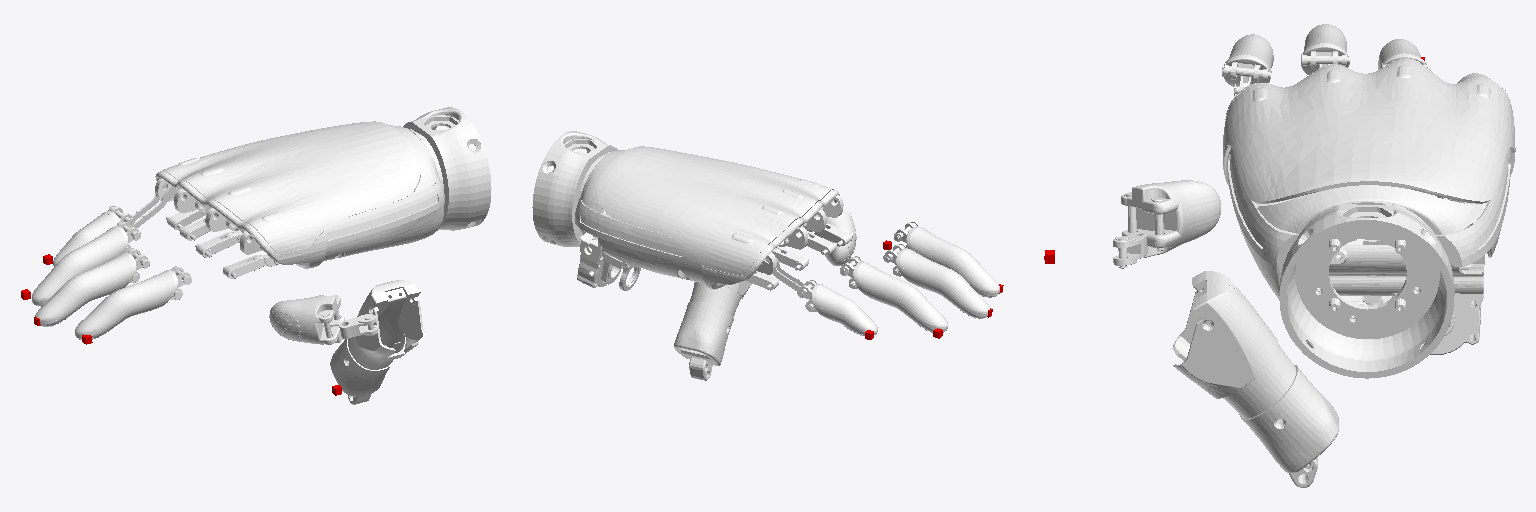
--- Render facts (derived) ---
3 views of the same robot in one strip: view 1: azimuth 30°, elevation 25°; view 2: azimuth 150°, elevation 25°; view 3: azimuth 270°, elevation 25° (orthographic).
Model rohand_right with 31 links and 30 joints (1 revolute, 19 continuous, 5 prismatic, 5 fixed), rooted at base_link, posed every joint at zero.
Visible links, largest first — view 1: base_link, th_proximal_link, mf_distal_link, if_distal_link, th_distal_link, rf_distal_link, lf_distal_link, th_connecting_link, if_slider_abpart_link, mf_slider_abpart_link, lf_connecting_link; view 2: base_link, th_proximal_link, rf_distal_link, mf_distal_link, if_distal_link, lf_distal_link, th_distal_link; view 3: base_link, th_proximal_link, th_distal_link, if_distal_link, mf_distal_link, th_connecting_link, rf_distal_link.
Link boxes in pixels (x1=…): base_link: x1=155, y1=107, x2=491, y2=268; th_proximal_link: x1=330, y1=280, x2=424, y2=404; mf_distal_link: x1=35, y1=248, x2=149, y2=326; if_distal_link: x1=75, y1=266, x2=191, y2=339; th_distal_link: x1=269, y1=295, x2=344, y2=344; rf_distal_link: x1=32, y1=221, x2=140, y2=306; lf_distal_link: x1=53, y1=205, x2=134, y2=266; th_connecting_link: x1=339, y1=314, x2=377, y2=338; if_slider_abpart_link: x1=223, y1=254, x2=279, y2=278; mf_slider_abpart_link: x1=195, y1=230, x2=242, y2=257; lf_connecting_link: x1=131, y1=183, x2=180, y2=227; base_link: x1=532, y1=131, x2=843, y2=290; th_proximal_link: x1=674, y1=281, x2=752, y2=380; rf_distal_link: x1=840, y1=256, x2=947, y2=332; mf_distal_link: x1=883, y1=244, x2=989, y2=318; if_distal_link: x1=894, y1=222, x2=999, y2=297; lf_distal_link: x1=797, y1=280, x2=877, y2=335; th_distal_link: x1=811, y1=203, x2=856, y2=265; base_link: x1=1223, y1=58, x2=1515, y2=378; th_proximal_link: x1=1172, y1=271, x2=1338, y2=487; th_distal_link: x1=1121, y1=180, x2=1220, y2=257; if_distal_link: x1=1222, y1=34, x2=1273, y2=95; mf_distal_link: x1=1301, y1=24, x2=1349, y2=74; th_connecting_link: x1=1113, y1=233, x2=1147, y2=268; rf_distal_link: x1=1378, y1=39, x2=1430, y2=70.
Bounding box of the posed robot: 0.2045 × 0.1318 × 0.1083 m (x, y, z).
14 mesh visuals loaded from 26 distinct referenced files (14 binary STL); not drawn: 12 (reference not matched to a file when rendering).

The robot description file, URDF, robot "rohand_right":
<?xml version="1.0" encoding="utf-8"?>
<!-- This URDF was automatically created by SolidWorks to URDF Exporter! Originally created by Stephen Brawner ([email redacted]) 
     Commit Version: 1.6.0-4-g7f85cfe  Build Version: 1.6.7995.38578
     For more information, please see http://wiki.ros.org/sw_urdf_exporter -->
<robot
  name="rohand_right">
  <link
    name="base_link">
    <inertial>
      <origin
        xyz="-0.0534374129596824 -0.00157154809251104 0.0032467575274062"
        rpy="0 0 0" />
      <mass
        value="0.0941614898718946" />
      <inertia
        ixx="4.1962895621209E-05"
        ixy="-3.95936210501525E-07"
        ixz="3.71581889924585E-06"
        iyy="6.1906439028121E-05"
        iyz="-7.5091963461847E-07"
        izz="8.90989074913989E-05" />
    </inertial>
    <visual>
      <origin
        xyz="0 0 0"
        rpy="0 0 0" />
      <geometry>
        <mesh
          filename="meshes_r/base_link.STL" />
      </geometry>
      <material
        name="">
        <color
          rgba="1 1 1 1" />
      </material>
    </visual>
    <collision>
      <origin
        xyz="0 0 0"
        rpy="0 0 0" />
      <geometry>
        <mesh
          filename="meshes_r/base_link.STL" />
      </geometry>
    </collision>
  </link>
  <link
    name="if_slider_link">
    <inertial>
      <origin
        xyz="-0.0138317508854737 -0.00115448052302192 1.02779733464993E-06"
        rpy="0 0 0" />
      <mass
        value="0.000489138281878773" />
      <inertia
        ixx="4.60375865761165E-09"
        ixy="-2.8127148800347E-09"
        ixz="-3.80386613632835E-12"
        iyy="3.82335085784227E-08"
        iyz="-7.1416734141464E-11"
        izz="3.92716908725489E-08" />
    </inertial>
    <visual>
      <origin
        xyz="0 0 0"
        rpy="0 0 0" />
      <geometry>
        <mesh
          filename="meshes_r/if_slider_link.STL" />
      </geometry>
      <material
        name="">
        <color
          rgba="1 1 1 1" />
      </material>
    </visual>
    <collision>
      <origin
        xyz="0 0 0"
        rpy="0 0 0" />
      <geometry>
        <mesh
          filename="meshes_r/if_slider_link.STL" />
      </geometry>
    </collision>
  </link>
  <joint
    name="if_slider_link"
    type="prismatic">
    <origin
      xyz="-0.074396 -0.026655 -0.0059032"
      rpy="0 0 0" />
    <parent
      link="base_link" />
    <child
      link="if_slider_link" />
    <axis
      xyz="0.99655 0.083049 0" />
    <limit
      lower="0"
      upper="0.019"
      effort="0"
      velocity="0" />
  </joint>
  <link
    name="if_slider_abpart_link">
    <inertial>
      <origin
        xyz="-0.00954720518211122 -0.00427267015401807 -0.000544594201914366"
        rpy="0 0 0" />
      <mass
        value="0.000526636346253179" />
      <inertia
        ixx="2.02100021410092E-09"
        ixy="-2.54226845281041E-10"
        ixz="-6.59734936904708E-10"
        iyy="5.75584791299005E-09"
        iyz="-1.16850382620202E-10"
        izz="6.47148213147093E-09" />
    </inertial>
    <visual>
      <origin
        xyz="0 0 0"
        rpy="0 0 0" />
      <geometry>
        <mesh
          filename="meshes_r/if_slider_abpart_link.STL" />
      </geometry>
      <material
        name="">
        <color
          rgba="1 1 1 1" />
      </material>
    </visual>
    <collision>
      <origin
        xyz="0 0 0"
        rpy="0 0 0" />
      <geometry>
        <mesh
          filename="meshes_r/if_slider_abpart_link.STL" />
      </geometry>
    </collision>
  </link>
  <joint
    name="if_slider_abpart_link"
    type="continuous">
    <origin
      xyz="-0.029189 0.0010654 0.00030518"
      rpy="0 0 0" />
    <parent
      link="if_slider_link" />
    <child
      link="if_slider_abpart_link" />
    <axis
      xyz="-0.082734 0.99276 0.087135" />
  </joint>
  <link
    name="if_proximal_link">
    <inertial>
      <origin
        xyz="-0.016911951986149 -0.00765749366613764 -0.00334236834850994"
        rpy="0 0 0" />
      <mass
        value="0.00154952958352476" />
      <inertia
        ixx="6.20200913201911E-08"
        ixy="-7.88931806956546E-09"
        ixz="2.14332181974192E-09"
        iyy="1.54230936622336E-07"
        iyz="-1.10636494913782E-09"
        izz="1.69485646305645E-07" />
    </inertial>
    <visual>
      <origin
        xyz="0 0 0"
        rpy="0 0 0" />
      <geometry>
        <mesh
          filename="meshes_r/if_proximal_link.STL" />
      </geometry>
      <material
        name="">
        <color
          rgba="1 1 1 1" />
      </material>
    </visual>
    <collision>
      <origin
        xyz="0 0 0"
        rpy="0 0 0" />
      <geometry>
        <mesh
          filename="meshes_r/if_proximal_link.STL" />
      </geometry>
    </collision>
  </link>
  <joint
    name="if_proximal_link"
    type="continuous">
    <origin
      xyz="-0.11324 -0.024137 0.0032314"
      rpy="0 0 0" />
    <parent
      link="base_link" />
    <child
      link="if_proximal_link" />
    <axis
      xyz="-0.082428 0.99278 0.087177" />
    <mimic joint="if_slider_link" multiplier="-75.052450" offset="-0.055446" />
  </joint>
  <link
    name="if_distal_link">
    <inertial>
      <origin
        xyz="-0.0201374868799976 -0.00765839764328939 -0.00662950783512292"
        rpy="0 0 0" />
      <mass
        value="0.00486631616894411" />
      <inertia
        ixx="1.06037458594174E-07"
        ixy="-2.80052670107197E-08"
        ixz="-1.10754286705661E-07"
        iyy="5.59829063970866E-07"
        iyz="-8.01484559546708E-09"
        izz="5.48253746727419E-07" />
    </inertial>
    <visual>
      <origin
        xyz="0 0 0"
        rpy="0 0 0" />
      <geometry>
        <mesh
          filename="meshes_r/if_distal_link.STL" />
      </geometry>
      <material
        name="">
        <color
          rgba="1 1 1 1" />
      </material>
    </visual>
    <collision>
      <origin
        xyz="0 0 0"
        rpy="0 0 0" />
      <geometry>
        <mesh
          filename="meshes_r/if_distal_link.STL" />
      </geometry>
    </collision>
  </link>
  <joint
    name="if_distal_link"
    type="continuous">
    <origin
      xyz="-0.035776 -0.0028401 -0.0014841"
      rpy="0 0 0" />
    <parent
      link="if_proximal_link" />
    <child
      link="if_distal_link" />
    <axis
      xyz="-0.082428 0.99278 0.087177" />
    <mimic joint="if_proximal_link" multiplier="1.138285" offset="-0.034824" />
  </joint>
  <link name="if_tip_link">
    <inertial>
      <mass value="0.001" />
      <inertia ixx="1e-6" ixy="0" ixz="0" iyy="1e-6" iyz="0" izz="1e-6" />
    </inertial>
    <visual>
      <geometry>
        <box size="0.003 0.003 0.003"/>
      </geometry>
      <material name="tip_color">
        <color rgba="1 0 0 1"/>
      </material>
    </visual>
  </link>
  <joint name="if_tip_joint" type="fixed">
    <parent link="if_distal_link" />
    <child link="if_tip_link" />
    <origin xyz="-0.046 -0.009 -0.014" rpy="0 0 0" />
  </joint>
  <link
    name="if_connecting_link">
    <inertial>
      <origin
        xyz="-0.0149214142555827 -0.00339461470143052 -0.00756951243385832"
        rpy="0 0 0" />
      <mass
        value="0.000197689248381643" />
      <inertia
        ixx="4.07222521241257E-09"
        ixy="-1.11279905101146E-09"
        ixz="-9.07365678556378E-09"
        iyy="2.70144151560738E-08"
        iyz="-4.02636120037544E-10"
        izz="2.30773508713418E-08" />
    </inertial>
    <visual>
      <origin
        xyz="0 0 0"
        rpy="0 0 0" />
      <geometry>
        <mesh
          filename="meshes_r/if_connecting_link.STL" />
      </geometry>
      <material
        name="">
        <color
          rgba="1 1 1 1" />
      </material>
    </visual>
    <collision>
      <origin
        xyz="0 0 0"
        rpy="0 0 0" />
      <geometry>
        <mesh
          filename="meshes_r/if_connecting_link.STL" />
      </geometry>
    </collision>
  </link>
  <joint
    name="if_connecting_link"
    type="continuous">
    <origin
      xyz="-0.12029 -0.028806 0.0072922"
      rpy="0 0 0" />
    <parent
      link="base_link" />
    <child
      link="if_connecting_link" />
    <axis
      xyz="-0.082428 0.99278 0.087177" />
  </joint>
  <link
    name="mf_slider_link">
    <inertial>
      <origin
        xyz="-0.0138786110407517 -0.000185270392211319 -7.69158771327105E-08"
        rpy="0 0 0" />
      <mass
        value="0.000489138286069735" />
      <inertia
        ixx="4.37587749533903E-09"
        ixy="-4.42411170419709E-10"
        ixz="-1.36586897440314E-11"
        iyy="3.84552026805131E-08"
        iyz="-1.78840748392823E-13"
        izz="3.92778850218071E-08" />
    </inertial>
    <visual>
      <origin
        xyz="0 0 0"
        rpy="0 0 0" />
      <geometry>
        <mesh
          filename="meshes_r/mf_slider_link.STL" />
      </geometry>
      <material
        name="">
        <color
          rgba="1 1 1 1" />
      </material>
    </visual>
    <collision>
      <origin
        xyz="0 0 0"
        rpy="0 0 0" />
      <geometry>
        <mesh
          filename="meshes_r/mf_slider_link.STL" />
      </geometry>
    </collision>
  </link>
  <joint
    name="mf_slider_link"
    type="prismatic">
    <origin
      xyz="-0.076974 -0.010077 -0.0016353"
      rpy="0 0 0" />
    <parent
      link="base_link" />
    <child
      link="mf_slider_link" />
    <axis
      xyz="0.99991 0.013228 0.00010039" />
    <limit
      lower="0"
      upper="0.019"
      effort="0"
      velocity="0" />
  </joint>
  <link
    name="mf_slider_abpart_link">
    <inertial>
      <origin
        xyz="-0.0098119455834705 -0.00362935245878584 -0.000504858603029756"
        rpy="0 0 0" />
      <mass
        value="0.000526636368526203" />
      <inertia
        ixx="2.04436010906919E-09"
        ixy="-4.91500227589239E-11"
        ixz="-7.8831220122798E-10"
        iyy="5.7661259675915E-09"
        iyz="-1.04922947060781E-11"
        izz="6.43784527640786E-09" />
    </inertial>
    <visual>
      <origin
        xyz="0 0 0"
        rpy="0 0 0" />
      <geometry>
        <mesh
          filename="meshes_r/mf_slider_abpart_link.STL" />
      </geometry>
      <material
        name="">
        <color
          rgba="1 1 1 1" />
      </material>
    </visual>
    <collision>
      <origin
        xyz="0 0 0"
        rpy="0 0 0" />
      <geometry>
        <mesh
          filename="meshes_r/mf_slider_abpart_link.STL" />
      </geometry>
    </collision>
  </link>
  <joint
    name="mf_slider_abpart_link"
    type="continuous">
    <origin
      xyz="-0.029044 0.0031153 0"
      rpy="0 0 0" />
    <parent
      link="mf_slider_link" />
    <child
      link="mf_slider_abpart_link" />
    <axis
      xyz="-0.013228 0.99991 7.2594E-05" />
  </joint>
  <link
    name="mf_proximal_link">
    <inertial>
      <origin
        xyz="-0.0197978588062098 -0.00676309331424427 -0.00446755065405406"
        rpy="0 0 0" />
      <mass
        value="0.00189501857338832" />
      <inertia
        ixx="7.78041708071735E-08"
        ixy="-2.0667592450232E-09"
        ixz="-1.00293189957718E-08"
        iyy="2.34038237089644E-07"
        iyz="-1.31948795498825E-10"
        izz="2.46195986184317E-07" />
    </inertial>
    <visual>
      <origin
        xyz="0 0 0"
        rpy="0 0 0" />
      <geometry>
        <mesh
          filename="meshes_r/mf_proximal_link.STL" />
      </geometry>
      <material
        name="">
        <color
          rgba="1 1 1 1" />
      </material>
    </visual>
    <collision>
      <origin
        xyz="0 0 0"
        rpy="0 0 0" />
      <geometry>
        <mesh
          filename="meshes_r/mf_proximal_link.STL" />
      </geometry>
    </collision>
  </link>
  <joint
    name="mf_proximal_link"
    type="continuous">
    <origin
      xyz="-0.11605 -0.0040932 0.0069659"
      rpy="0 0 0" />
    <parent
      link="base_link" />
    <child
      link="mf_proximal_link" />
    <axis
      xyz="-0.013244 0.99991 -4.2699E-05" />
    <mimic joint="mf_slider_link" multiplier="-74.008909" offset="-0.065644" />
  </joint>
  <link
    name="mf_distal_link">
    <inertial>
      <origin
        xyz="-0.0205799567083225 -0.00679450784333847 -0.00619598626408838"
        rpy="0 0 0" />
      <mass
        value="0.00486610881870854" />
      <inertia
        ixx="1.05820356063162E-07"
        ixy="-5.96217069992573E-09"
        ixz="-1.13841963470745E-07"
        iyy="5.61305496694097E-07"
        iyz="-1.48710666865769E-09"
        izz="5.46868992272727E-07" />
    </inertial>
    <visual>
      <origin
        xyz="0 0 0"
        rpy="0 0 0" />
      <geometry>
        <mesh
          filename="meshes_r/mf_distal_link.STL" />
      </geometry>
      <material
        name="">
        <color
          rgba="1 1 1 1" />
      </material>
    </visual>
    <collision>
      <origin
        xyz="0 0 0"
        rpy="0 0 0" />
      <geometry>
        <mesh
          filename="meshes_r/mf_distal_link.STL" />
      </geometry>
    </collision>
  </link>
  <joint
    name="mf_distal_link"
    type="continuous">
    <origin
      xyz="-0.040851 -0.00054126 -0.0035364"
      rpy="0 0 0" />
    <parent
      link="mf_proximal_link" />
    <child
      link="mf_distal_link" />
    <axis
      xyz="-0.013244 0.99991 -2.1055E-05" />
    <mimic joint="mf_proximal_link" multiplier="1.139937" offset="-0.033724" />
  </joint>
  <link name="mf_tip_link">
    <inertial>
      <mass value="0.001" />
      <inertia ixx="1e-6" ixy="0" ixz="0" iyy="1e-6" iyz="0" izz="1e-6" />
    </inertial>
    <visual>
      <geometry>
        <box size="0.003 0.003 0.003"/>
      </geometry>
      <material name="tip_color">
        <color rgba="1 0 0 1"/>
      </material>
    </visual>
  </link>
  <joint name="mf_tip_joint" type="fixed">
    <parent link="mf_distal_link" />
    <child link="mf_tip_link" />
    <origin xyz="-0.047 -0.007 -0.014" rpy="0 0 0" />
  </joint>
  <link
    name="mf_connecting_link">
    <inertial>
      <origin
        xyz="-0.0172404027176054 -0.00302882403489448 -0.00839495079986684"
        rpy="0 0 0" />
      <mass
        value="0.000216186298115104" />
      <inertia
        ixx="5.71911032121687E-09"
        ixy="-4.34635722671368E-10"
        ixz="-1.31282576362091E-08"
        iyy="3.85062669375328E-08"
        iyz="-1.74010213990928E-10"
        izz="3.28217382655966E-08" />
    </inertial>
    <visual>
      <origin
        xyz="0 0 0"
        rpy="0 0 0" />
      <geometry>
        <mesh
          filename="meshes_r/mf_connecting_link.STL" />
      </geometry>
      <material
        name="">
        <color
          rgba="1 1 1 1" />
      </material>
    </visual>
    <collision>
      <origin
        xyz="0 0 0"
        rpy="0 0 0" />
      <geometry>
        <mesh
          filename="meshes_r/mf_connecting_link.STL" />
      </geometry>
    </collision>
  </link>
  <joint
    name="mf_connecting_link"
    type="continuous">
    <origin
      xyz="-0.12342 -0.0078912 0.011366"
      rpy="0 0 0" />
    <parent
      link="base_link" />
    <child
      link="mf_connecting_link" />
    <axis
      xyz="-0.013244 0.99991 -2.1054E-05" />
  </joint>
  <link
    name="rf_slider_link">
    <inertial>
      <origin
        xyz="-0.0138577276275272 0.000783291982999354 -2.57947158771588E-09"
        rpy="0 0 0" />
      <mass
        value="0.000489138255422532" />
      <inertia
        ixx="4.4801306165684E-09"
        ixy="1.93332298746995E-09"
        ixz="-1.34549090986576E-11"
        iyy="3.83509471510986E-08"
        iyz="7.58561752901306E-13"
        izz="3.92778831148437E-08" />
    </inertial>
    <visual>
      <origin
        xyz="0 0 0"
        rpy="0 0 0" />
      <geometry>
        <mesh
          filename="meshes_r/rf_slider_link.STL" />
      </geometry>
      <material
        name="">
        <color
          rgba="1 1 1 1" />
      </material>
    </visual>
    <collision>
      <origin
        xyz="0 0 0"
        rpy="0 0 0" />
      <geometry>
        <mesh
          filename="meshes_r/rf_slider_link.STL" />
      </geometry>
    </collision>
  </link>
  <joint
    name="rf_slider_link"
    type="prismatic">
    <origin
      xyz="-0.074498 0.0072492 -0.0023801"
      rpy="0 0 0" />
    <parent
      link="base_link" />
    <child
      link="rf_slider_link" />
    <axis
      xyz="0.9984 -0.056554 9.5082E-05" />
    <limit
      lower="0"
      upper="0.019"
      effort="0"
      velocity="0" />
  </joint>
  <link
    name="rf_slider_abpart_link">
    <inertial>
      <origin
        xyz="-0.0100460782718657 -0.00293580717799607 -0.000398409844149738"
        rpy="0 0 0" />
      <mass
        value="0.000526636350514617" />
      <inertia
        ixx="2.03917187638513E-09"
        ixy="2.11241960983381E-10"
        ixz="-7.39578422790513E-10"
        iyy="5.75480358477282E-09"
        iyz="4.18225341671665E-11"
        izz="6.45435515888634E-09" />
    </inertial>
    <visual>
      <origin
        xyz="0 0 0"
        rpy="0 0 0" />
      <geometry>
        <mesh
          filename="meshes_r/rf_slider_abpart_link.STL" />
      </geometry>
      <material
        name="">
        <color
          rgba="1 1 1 1" />
      </material>
    </visual>
    <collision>
      <origin
        xyz="0 0 0"
        rpy="0 0 0" />
      <geometry>
        <mesh
          filename="meshes_r/rf_slider_abpart_link.STL" />
      </geometry>
    </collision>
  </link>
  <joint
    name="rf_slider_abpart_link"
    type="continuous">
    <origin
      xyz="-0.028756 0.0051336 0"
      rpy="0 0 0" />
    <parent
      link="rf_slider_link" />
    <child
      link="rf_slider_abpart_link" />
    <axis
      xyz="0.056554 0.9984 7.942E-05" />
  </joint>
  <link
    name="rf_proximal_link">
    <inertial>
      <origin
        xyz="-0.0177310287909376 -0.00550519929476113 -0.00333587081746279"
        rpy="0 0 0" />
      <mass
        value="0.0015495346822944" />
      <inertia
        ixx="6.1627993173526E-08"
        ixy="5.28043591321876E-09"
        ixz="-1.35824301643415E-09"
        iyy="1.54490462686207E-07"
        iyz="8.36929214668239E-11"
        izz="1.69619189994361E-07" />
    </inertial>
    <visual>
      <origin
        xyz="0 0 0"
        rpy="0 0 0" />
      <geometry>
        <mesh
          filename="meshes_r/rf_proximal_link.STL" />
      </geometry>
      <material
        name="">
        <color
          rgba="1 1 1 1" />
      </material>
    </visual>
    <collision>
      <origin
        xyz="0 0 0"
        rpy="0 0 0" />
      <geometry>
        <mesh
          filename="meshes_r/rf_proximal_link.STL" />
      </geometry>
    </collision>
  </link>
  <joint
    name="rf_proximal_link"
    type="continuous">
    <origin
      xyz="-0.11287 0.015935 0.0062161"
      rpy="0 0 0" />
    <parent
      link="base_link" />
    <child
      link="rf_proximal_link" />
    <axis
      xyz="0.05658 0.9984 -2.102E-05" />
    <mimic joint="rf_slider_link" multiplier="-74.604806" offset="-0.051526" />
  </joint>
  <link
    name="rf_distal_link">
    <inertial>
      <origin
        xyz="-0.0205452704454659 -0.00536749629258281 -0.00756097673363692"
        rpy="0 0 0" />
      <mass
        value="0.00486607601001256" />
      <inertia
        ixx="1.24271987974525E-07"
        ixy="2.48401012771062E-08"
        ixz="-1.41965837565003E-07"
        iyy="5.59956587625226E-07"
        iyz="8.06905373260045E-09"
        izz="5.29737231583633E-07" />
    </inertial>
    <visual>
      <origin
        xyz="0 0 0"
        rpy="0 0 0" />
      <geometry>
        <mesh
          filename="meshes_r/rf_distal_link.STL" />
      </geometry>
      <material
        name="">
        <color
          rgba="1 1 1 1" />
      </material>
    </visual>
    <collision>
      <origin
        xyz="0 0 0"
        rpy="0 0 0" />
      <geometry>
        <mesh
          filename="meshes_r/rf_distal_link.STL" />
      </geometry>
    </collision>
  </link>
  <joint
    name="rf_distal_link"
    type="continuous">
    <origin
      xyz="-0.035766 0.0020268 -0.0026198"
      rpy="0 0 0" />
    <parent
      link="rf_proximal_link" />
    <child
      link="rf_distal_link" />
    <axis
      xyz="0.05658 0.9984 -2.102E-05" />
    <mimic joint="rf_proximal_link" multiplier="1.134612" offset="-0.033167" />
  </joint>
  <link name="rf_tip_link">
    <inertial>
      <mass value="0.001" />
      <inertia ixx="1e-6" ixy="0" ixz="0" iyy="1e-6" iyz="0" izz="1e-6" />
    </inertial>
    <visual>
      <geometry>
        <box size="0.003 0.003 0.003"/>
      </geometry>
      <material name="tip_color">
        <color rgba="1 0 0 1"/>
      </material>
    </visual>
  </link>
  <joint name="rf_tip_joint" type="fixed">
    <parent link="rf_distal_link" />
    <child link="rf_tip_link" />
    <origin xyz="-0.046 -0.003 -0.017" rpy="0 0 0" />
  </joint>
  <link
    name="rf_connecting_link">
    <inertial>
      <origin
        xyz="-0.0149581978586362 -0.00195701448922151 -0.00799324332753841"
        rpy="0 0 0" />
      <mass
        value="0.000197689252304948" />
      <inertia
        ixx="4.92836846137584E-09"
        ixy="1.25465287447078E-09"
        ixz="-9.87167520544273E-09"
        iyy="2.70003622691774E-08"
        iyz="5.59331393640482E-10"
        izz="2.22352610693874E-08" />
    </inertial>
    <visual>
      <origin
        xyz="0 0 0"
        rpy="0 0 0" />
      <geometry>
        <mesh
          filename="meshes_r/rf_connecting_link.STL" />
      </geometry>
      <material
        name="">
        <color
          rgba="1 1 1 1" />
      </material>
    </visual>
    <collision>
      <origin
        xyz="0 0 0"
        rpy="0 0 0" />
      <geometry>
        <mesh
          filename="meshes_r/rf_connecting_link.STL" />
      </geometry>
    </collision>
  </link>
  <joint
    name="rf_connecting_link"
    type="continuous">
    <origin
      xyz="-0.1204851022382 0.0126604995038233 0.0106153804877178"
      rpy="0 0 0" />
    <parent
      link="base_link" />
    <child
      link="rf_connecting_link" />
    <axis
      xyz="0.0565797489260885 0.99839808271532 -2.10198201110756E-05" />
  </joint>
  <link
    name="lf_slider_link">
    <inertial>
      <origin
        xyz="-0.0137830050652566 0.00163673819958291 3.10002635612108E-07"
        rpy="0 0 0" />
      <mass
        value="0.000489138222296884" />
      <inertia
        ixx="4.84694102463702E-09"
        ixy="4.00378603315495E-09"
        ixz="-5.27247404385965E-12"
        iyy="3.79903471786704E-08"
        iyz="7.21125885153376E-11"
        izz="3.92716625459811E-08" />
    </inertial>
    <visual>
      <origin
        xyz="0 0 0"
        rpy="0 0 0" />
      <geometry>
        <mesh
          filename="meshes_r/lf_slider_link.STL" />
      </geometry>
      <material
        name="">
        <color
          rgba="1 1 1 1" />
      </material>
    </visual>
    <collision>
      <origin
        xyz="0 0 0"
        rpy="0 0 0" />
      <geometry>
        <mesh
          filename="meshes_r/lf_slider_link.STL" />
      </geometry>
    </collision>
  </link>
  <joint
    name="lf_slider_link"
    type="prismatic">
    <origin
      xyz="-0.0708466334619896 0.0241824111749996 -0.00489967270216645"
      rpy="0 0 0" />
    <parent
      link="base_link" />
    <child
      link="lf_slider_link" />
    <axis
      xyz="0.993009723934899 -0.118032543523823 8.27044911595336E-05" />
    <limit
      lower="0"
      upper="0.019"
      effort="0"
      velocity="0" />
  </joint>
  <link
    name="lf_slider_abpart_link">
    <inertial>
      <origin
        xyz="-0.0102063555652567 -0.00234259650590587 -0.000209525841910842"
        rpy="0 0 0" />
      <mass
        value="0.000526636335571007" />
      <inertia
        ixx="2.08132552306167E-09"
        ixy="3.69565387537111E-10"
        ixz="-7.78261185028171E-10"
        iyy="5.73614117437819E-09"
        iyz="1.51002988209835E-10"
        izz="6.43086320825401E-09" />
    </inertial>
    <visual>
      <origin
        xyz="0 0 0"
        rpy="0 0 0" />
      <geometry>
        <mesh
          filename="meshes_r/lf_slider_abpart_link.STL" />
      </geometry>
      <material
        name="">
        <color
          rgba="1 1 1 1" />
      </material>
    </visual>
    <collision>
      <origin
        xyz="0 0 0"
        rpy="0 0 0" />
      <geometry>
        <mesh
          filename="meshes_r/lf_slider_abpart_link.STL" />
      </geometry>
    </collision>
  </link>
  <joint
    name="lf_slider_abpart_link"
    type="continuous">
    <origin
      xyz="-0.0283858043783233 0.00688449840682251 -0.000306788289491815"
      rpy="0 0 0" />
    <parent
      link="lf_slider_link" />
    <child
      link="lf_slider_abpart_link" />
    <axis
      xyz="0.117590610595967 0.989230669602698 -0.0871500465694956" />
  </joint>
  <link
    name="lf_proximal_link">
    <inertial>
      <origin
        xyz="-0.0162288997665586 -0.00489295515461147 -0.00285461884567003"
        rpy="0 0 0" />
      <mass
        value="0.00136677973237" />
      <inertia
        ixx="5.65577187001445E-08"
        ixy="6.43606986195803E-09"
        ixz="-2.86666526076883E-09"
        iyy="1.12197398928047E-07"
        iyz="1.61247214480287E-09"
        izz="1.27256606416047E-07" />
    </inertial>
    <visual>
      <origin
        xyz="0 0 0"
        rpy="0 0 0" />
      <geometry>
        <mesh
          filename="meshes_r/lf_proximal_link.STL" />
      </geometry>
      <material
        name="">
        <color
          rgba="1 1 1 1" />
      </material>
    </visual>
    <collision>
      <origin
        xyz="0 0 0"
        rpy="0 0 0" />
      <geometry>
        <mesh
          filename="meshes_r/lf_proximal_link.STL" />
      </geometry>
    </collision>
  </link>
  <joint
    name="lf_proximal_link"
    type="continuous">
    <origin
      xyz="-0.10871130258864 0.0359583660197833 0.00309824490260681"
      rpy="0 0 0" />
    <parent
      link="base_link" />
    <child
      link="lf_proximal_link" />
    <axis
      xyz="0.117591058209323 0.989234457465869 -0.0871064359930968" />
    <mimic joint="lf_slider_link" multiplier="-74.278679" offset="-0.049528" />
  </joint>
  <link
    name="lf_distal_link">
    <inertial>
      <origin
        xyz="-0.0131613846630599 -0.00544871200568296 -0.00463526283326208"
        rpy="0 0 0" />
      <mass
        value="0.00326999621591245" />
      <inertia
        ixx="5.95701111045849E-08"
        ixy="7.82239562000353E-09"
        ixz="-3.78877982628279E-08"
        iyy="1.53009904450743E-07"
        iyz="4.48079481900786E-09"
        izz="1.53335411327093E-07" />
    </inertial>
    <visual>
      <origin
        xyz="0 0 0"
        rpy="0 0 0" />
      <geometry>
        <mesh
          filename="meshes_r/lf_distal_link.STL" />
      </geometry>
      <material
        name="">
        <color
          rgba="1 1 1 1" />
      </material>
    </visual>
    <collision>
      <origin
        xyz="0 0 0"
        rpy="0 0 0" />
      <geometry>
        <mesh
          filename="meshes_r/lf_distal_link.STL" />
      </geometry>
    </collision>
  </link>
  <joint
    name="lf_distal_link"
    type="continuous">
    <origin
      xyz="-0.031562 0.0034532 -0.003392"
      rpy="0 0 0" />
    <parent
      link="lf_proximal_link" />
    <child
      link="lf_distal_link" />
    <axis
      xyz="0.11759 0.98923 -0.087106" />
    <mimic joint="lf_proximal_link" multiplier="1.152366" offset="-0.067444" />
  </joint>
  <link name="lf_tip_link">
    <inertial>
      <mass value="0.001" />
      <inertia ixx="1e-6" ixy="0" ixz="0" iyy="1e-6" iyz="0" izz="1e-6" />
    </inertial>
    <visual>
      <geometry>
        <box size="0.003 0.003 0.003"/>
      </geometry>
      <material name="tip_color">
        <color rgba="1 0 0 1"/>
      </material>
    </visual>
  </link>
  <joint name="lf_tip_joint" type="fixed">
    <parent link="lf_distal_link" />
    <child link="lf_tip_link" />
    <origin xyz="-0.032 -0.004 -0.012" rpy="0 0 0" />
  </joint>
  <link
    name="lf_connecting_link">
    <inertial>
      <origin
        xyz="-0.0129208949539236 -0.00198480160598055 -0.00783823800520824"
        rpy="0 0 0" />
      <mass
        value="0.000176981602686642" />
      <inertia
        ixx="4.93706907107081E-09"
        ixy="1.08018685509757E-09"
        ixz="-8.19111708831926E-09"
        iyy="2.00115909902661E-08"
        iyz="5.47675927664685E-10"
        izz="1.52537546369551E-08" />
    </inertial>
    <visual>
      <origin
        xyz="0 0 0"
        rpy="0 0 0" />
      <geometry>
        <mesh
          filename="meshes_r/lf_connecting_link.STL" />
      </geometry>
      <material
        name="">
        <color
          rgba="1 1 1 1" />
      </material>
    </visual>
    <collision>
      <origin
        xyz="0 0 0"
        rpy="0 0 0" />
      <geometry>
        <mesh
          filename="meshes_r/lf_connecting_link.STL" />
      </geometry>
    </collision>
  </link>
  <joint
    name="lf_connecting_link"
    type="continuous">
    <origin
      xyz="-0.11647 0.033555 0.0078033"
      rpy="0 0 0" />
    <parent
      link="base_link" />
    <child
      link="lf_connecting_link" />
    <axis
      xyz="0.11759 0.98924 -0.087085" />
  </joint>
  <link
    name="th_root_link">
    <inertial>
      <origin
        xyz="-0.0182056024312271 -0.00620278411274924 -0.00602504863372063"
        rpy="0 0 0" />
      <mass
        value="0.00217782328356739" />
      <inertia
        ixx="1.92048481479894E-07"
        ixy="-8.02008675069051E-08"
        ixz="-1.58292104587684E-08"
        iyy="1.97385228513266E-07"
        iyz="-2.84372060188982E-08"
        izz="2.25370032308905E-07" />
    </inertial>
    <visual>
      <origin
        xyz="0 0 0"
        rpy="0 0 0" />
      <geometry>
        <mesh
          filename="meshes_r/th_root_link.STL" />
      </geometry>
      <material
        name="">
        <color
          rgba="1 1 1 1" />
      </material>
    </visual>
    <collision>
      <origin
        xyz="0 0 0"
        rpy="0 0 0" />
      <geometry>
        <mesh
          filename="meshes_r/th_root_link.STL" />
      </geometry>
    </collision>
  </link>
  <joint
    name="th_root_link"
    type="revolute">
    <origin
      xyz="-0.024656 -0.019554 -0.018266"
      rpy="0 0 0" />
    <parent
      link="base_link" />
    <child
      link="th_root_link" />
    <axis
      xyz="0.97616 0.01293 0.21667" />
    <limit
      lower="0"
      upper="1.57"
      effort="0"
      velocity="0" />
  </joint>
  <link
    name="th_proximal_link">
    <inertial>
      <origin
        xyz="-0.0184116092810015 -0.0115354100517607 0.00417628792862241"
        rpy="0 0 0" />
      <mass
        value="0.00501307756145889" />
      <inertia
        ixx="7.32552864862064E-07"
        ixy="-6.67933190699978E-07"
        ixz="-2.77355271268145E-07"
        iyy="1.50720254529732E-06"
        iyz="-1.29786986672997E-07"
        izz="2.02068566316036E-06" />
    </inertial>
    <visual>
      <origin
        xyz="0 0 0"
        rpy="0 0 0" />
      <geometry>
        <mesh
          filename="meshes_r/th_proximal_link.STL" />
      </geometry>
      <material
        name="">
        <color
          rgba="1 1 1 1" />
      </material>
    </visual>
    <collision>
      <origin
        xyz="0 0 0"
        rpy="0 0 0" />
      <geometry>
        <mesh
          filename="meshes_r/th_proximal_link.STL" />
      </geometry>
    </collision>
  </link>
  <joint
    name="th_proximal_link"
    type="continuous">
    <origin
      xyz="-0.025097 -0.021667 -0.015581"
      rpy="0 0 0" />
    <parent
      link="th_root_link" />
    <child
      link="th_proximal_link" />
    <axis
      xyz="-0.21699 -0.032029 0.97565" />
    <mimic joint="th_slider_link" multiplier="-70.405870" offset="0.020045" />
  </joint>
  <link
    name="th_slider_link">
    <inertial>
      <origin
        xyz="-0.00851609590265527 -0.00542248522665952 -0.00171626270578038"
        rpy="0 0 0" />
      <mass
        value="0.000966927715708797" />
      <inertia
        ixx="4.78157132134601E-08"
        ixy="-2.60371829130736E-08"
        ixz="-1.95870059545572E-09"
        iyy="5.57310162346669E-08"
        iyz="-5.63523062150475E-09"
        izz="6.02181085440815E-08" />
    </inertial>
    <visual>
      <origin
        xyz="0 0 0"
        rpy="0 0 0" />
      <geometry>
        <mesh
          filename="meshes_r/th_slider_link.STL" />
      </geometry>
      <material
        name="">
        <color
          rgba="1 1 1 1" />
      </material>
    </visual>
    <collision>
      <origin
        xyz="0 0 0"
        rpy="0 0 0" />
      <geometry>
        <mesh
          filename="meshes_r/th_slider_link.STL" />
      </geometry>
    </collision>
  </link>
  <joint
    name="th_slider_link"
    type="prismatic">
    <origin
      xyz="-0.0053401 -0.0053494 0.0068801"
      rpy="0 0 0" />
    <parent
      link="th_proximal_link" />
    <child
      link="th_slider_link" />
    <axis
      xyz="-0.76198 -0.63028 -0.14877" />
    <limit
      lower="0"
      upper="0.01"
      effort="0"
      velocity="0" />
  </joint>
  <link
    name="th_connecting_link">
    <inertial>
      <origin
        xyz="-0.00136684006934208 -0.00145247600958444 -0.00439754221886702"
        rpy="0 0 0" />
      <mass
        value="0.000607798102631607" />
      <inertia
        ixx="4.70576711466197E-09"
        ixy="-1.33681610352704E-09"
        ixz="-8.45531416476559E-11"
        iyy="6.82689720568738E-09"
        iyz="-3.48022069928473E-10"
        izz="5.2757667153237E-09" />
    </inertial>
    <visual>
      <origin
        xyz="0 0 0"
        rpy="0 0 0" />
      <geometry>
        <mesh
          filename="meshes_r/th_connecting_link.STL" />
      </geometry>
      <material
        name="">
        <color
          rgba="1 1 1 1" />
      </material>
    </visual>
    <collision>
      <origin
        xyz="0 0 0"
        rpy="0 0 0" />
      <geometry>
        <mesh
          filename="meshes_r/th_connecting_link.STL" />
      </geometry>
    </collision>
  </link>
  <joint
    name="th_connecting_link"
    type="continuous">
    <origin
      xyz="-0.026144 -0.020984 -0.0010258"
      rpy="0 0 0" />
    <parent
      link="th_slider_link" />
    <child
      link="th_connecting_link" />
    <axis
      xyz="-0.21699 0.032029 0.97565" />
  </joint>
  <link
    name="th_distal_link">
    <inertial>
      <origin
        xyz="-0.000439994899924894 -0.0101522919044099 -0.0069088261128312"
        rpy="0 0 0" />
      <mass
        value="0.00601772502419511" />
      <inertia
        ixx="2.88077211935751E-07"
        ixy="-5.85470950376845E-08"
        ixz="1.21533994284891E-08"
        iyy="2.18588933453259E-07"
        iyz="-1.22530053465934E-08"
        izz="2.45149442778336E-07" />
    </inertial>
    <visual>
      <origin
        xyz="0 0 0"
        rpy="0 0 0" />
      <geometry>
        <mesh
          filename="meshes_r/th_distal_link.STL" />
      </geometry>
      <material
        name="">
        <color
          rgba="1 1 1 1" />
      </material>
    </visual>
    <collision>
      <origin
        xyz="0 0 0"
        rpy="0 0 0" />
      <geometry>
        <mesh
          filename="meshes_r/th_distal_link.STL" />
      </geometry>
    </collision>
  </link>
  <joint
    name="th_distal_link"
    type="continuous">
    <origin
      xyz="-0.049076 -0.023254 0.004868"
      rpy="0 0 0" />
    <parent
      link="th_proximal_link" />
    <child
      link="th_distal_link" />
    <axis
      xyz="-0.21698 0.032029 0.97565" />
    <mimic joint="th_proximal_link" multiplier="1.229686" offset="-0.037509" />
  </joint>
  <link name="th_tip_link">
    <inertial>
      <mass value="0.001" />
      <inertia ixx="1e-6" ixy="0" ixz="0" iyy="1e-6" iyz="0" izz="1e-6" />
    </inertial>
    <visual>
      <geometry>
        <box size="0.003 0.003 0.003"/>
      </geometry>
      <material name="tip_color">
        <color rgba="1 0 0 1"/>
      </material>
    </visual>
  </link>
  <joint name="th_tip_joint" type="fixed">
    <parent link="th_distal_link" />
    <child link="th_tip_link" />
    <origin xyz="-0.011 -0.023 -0.009" rpy="0 0 0" />
  </joint>
</robot>
